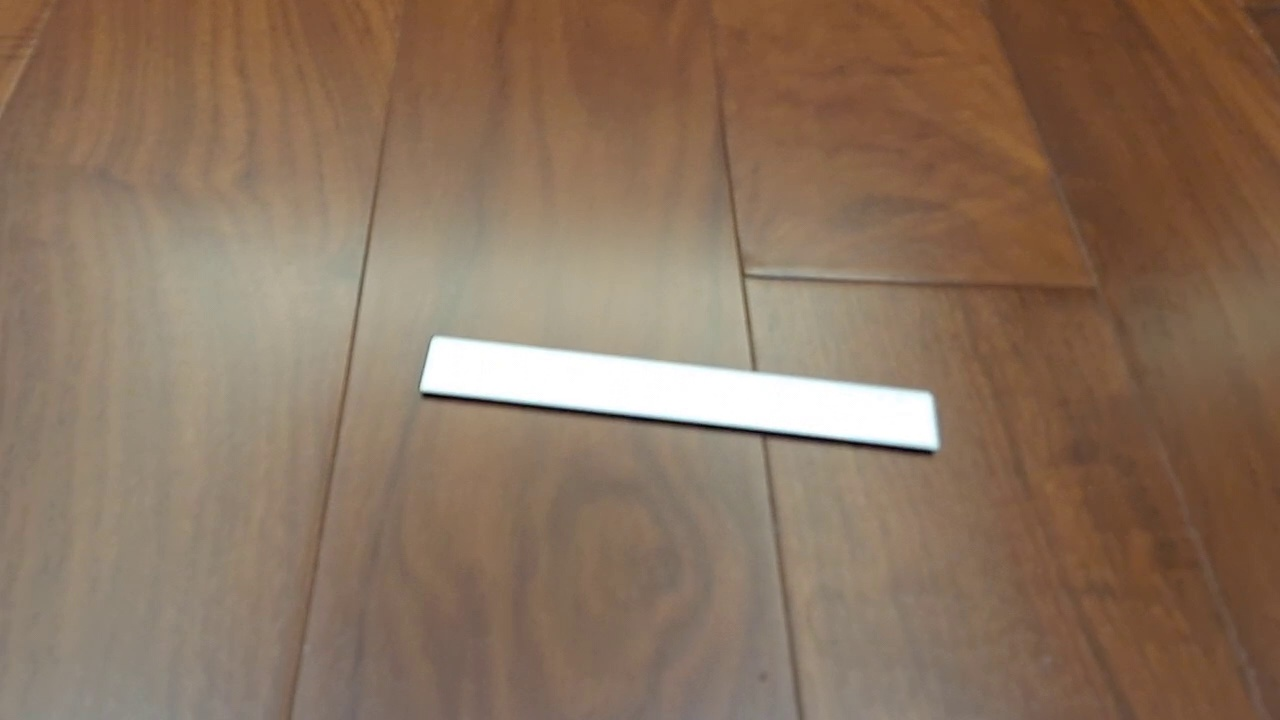ruler: (417, 332, 942, 457)
